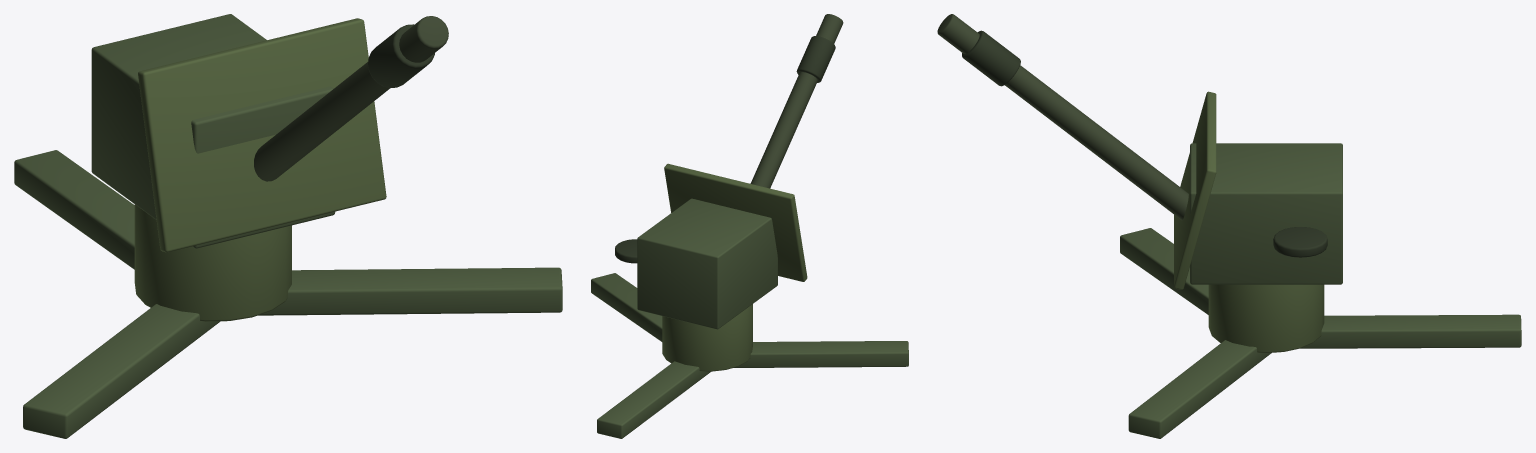
The model's file is canhao_moderno.glb.
The picture shows the model from 3 angles, left to right: view 1: azimuth 30°, elevation 25°; view 2: azimuth 150°, elevation 25°; view 3: azimuth 270°, elevation 25°; orthographic projection. The views are drawn at different scales.
Visible parts, largest first — view 1: canhao_moderno; view 2: canhao_moderno; view 3: canhao_moderno.
Part boxes in pixels (<box>): canhao_moderno: <box>14,14,562,438</box>; canhao_moderno: <box>591,14,908,438</box>; canhao_moderno: <box>937,14,1521,438</box>.
Size of the model in its own units: 2.7 by 2.12 by 3.44.
